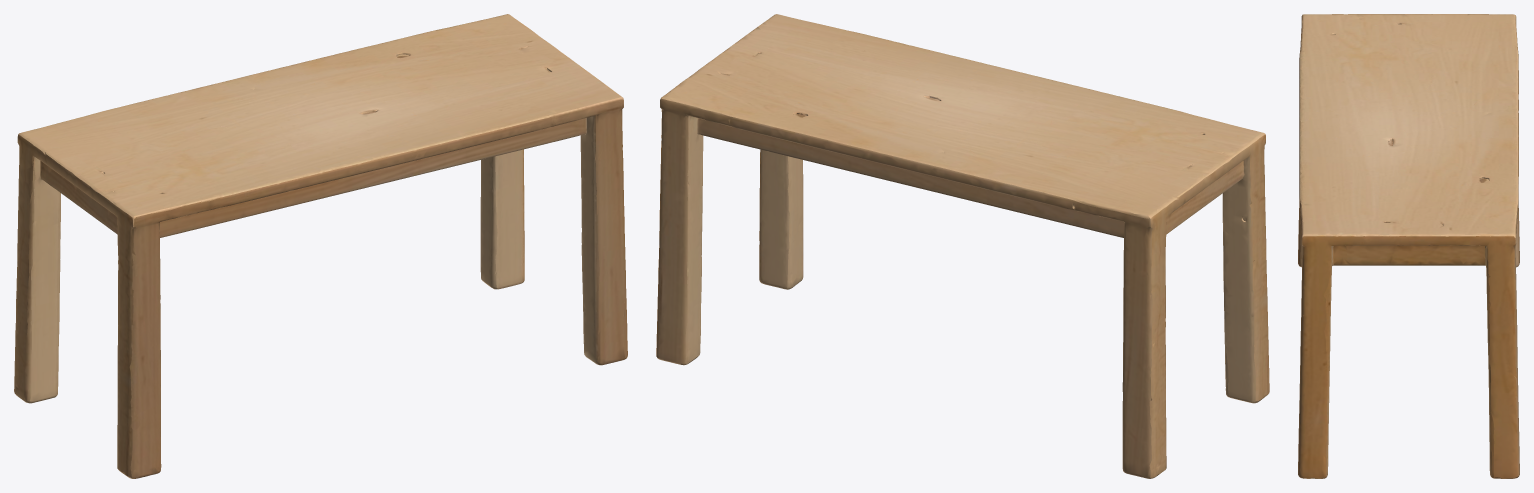
The model's file is L_DINING.japandi.glb.
3 views of the same model, side by side, from view 1: azimuth 30°, elevation 25°; view 2: azimuth 150°, elevation 25°; view 3: azimuth 270°, elevation 25° (orthographic). The views are drawn at different scales.
Parts seen in each view (by area): view 1: geometry_0; view 2: geometry_0; view 3: geometry_0.
Part boxes in pixels (x1,y1,x2,y2): geometry_0: (14,14,627,478); geometry_0: (656,14,1269,478); geometry_0: (1298,14,1519,478).
Bounding box in the file's own units: 1.8 × 0.9039 × 0.7475.
Materials: 1 (1 with a texture image).
